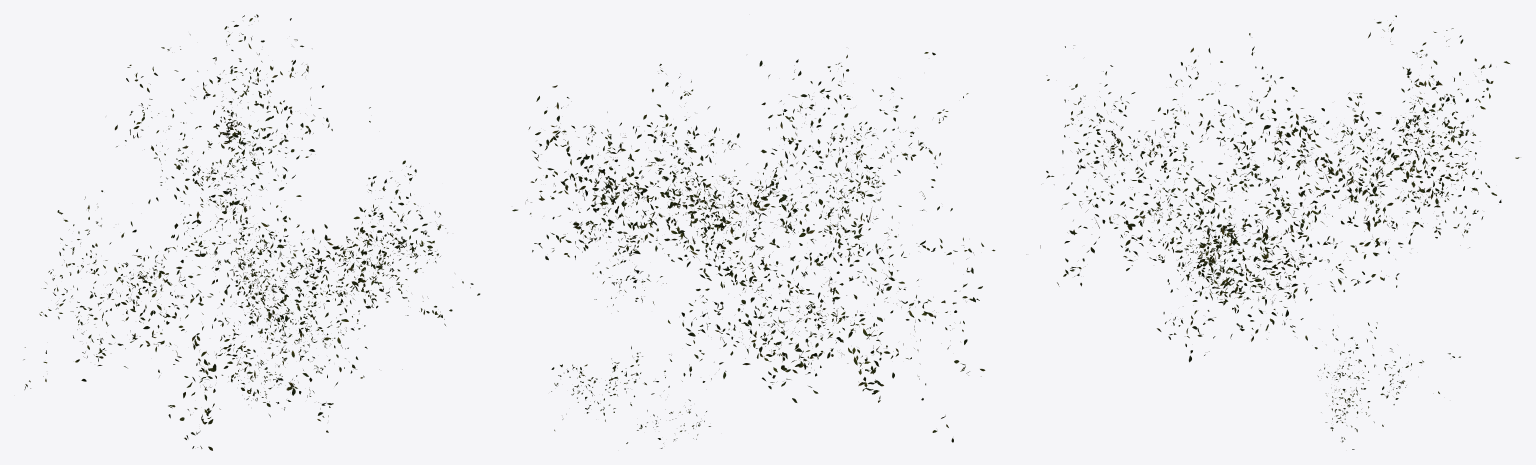
Rendered from island_tree_01_full.glb.
3 views of the same model, side by side, from view 1: azimuth 30°, elevation 25°; view 2: azimuth 150°, elevation 25°; view 3: azimuth 270°, elevation 25° (orthographic). The views are drawn at different scales.
Parts seen in each view (by area): view 1: island_tree_01_full; view 2: island_tree_01_full; view 3: island_tree_01_full.
Boxes of the visible parts, x1,y1,x2,y2 form: island_tree_01_full: (23, 14, 480, 450); island_tree_01_full: (512, 52, 995, 448); island_tree_01_full: (1026, 15, 1519, 449).
Size of the model in its own units: 4.61 by 4.12 by 4.58.
2 materials, 2 textured.
